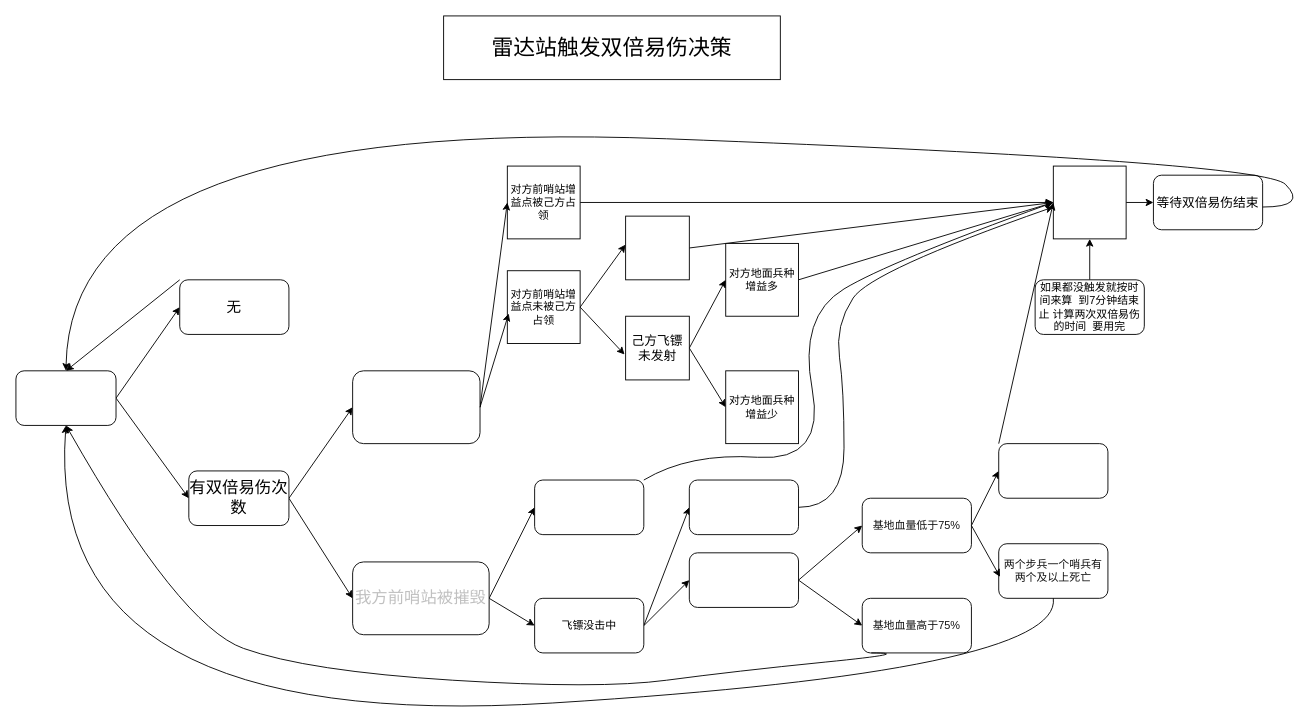
This 1309x723 diagram has some shape labels left out. Each missing label, with the centre of its shape:
"两个步兵一个哨兵有两个及以上活着" goes at point (1053, 470).
"优势：对方前哨站被击毁而我方前哨站没被击毁" goes at point (416, 407).
"启动双倍易伤" goes at point (1089, 202).
"己方堡垒无己方兵种占领" goes at point (743, 579).
"己方堡垒有己方兵种占领" goes at point (743, 507).
"己方飞镖发射" goes at point (657, 247).
"查是否有双倍易伤次数" goes at point (65, 397).
"飞镖第一次/第二次击中对方基地" goes at point (589, 507).
